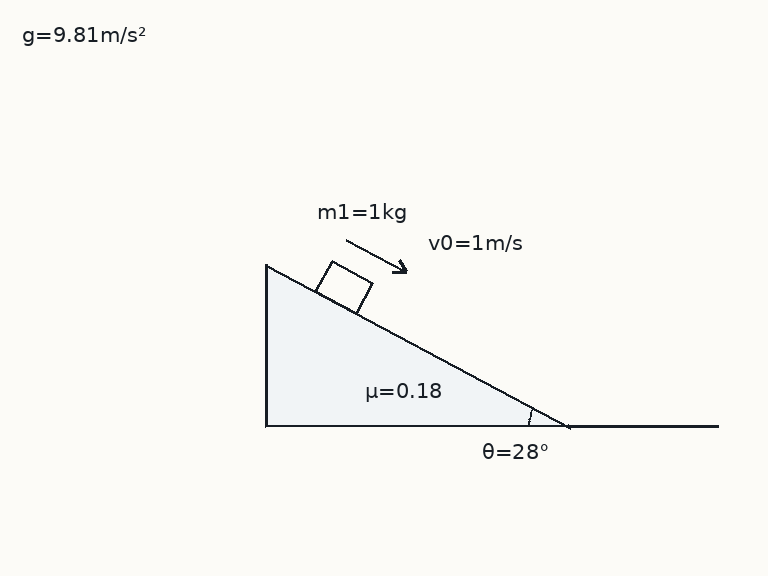block: (313, 259, 374, 315)
ramp: (264, 263, 571, 428)
